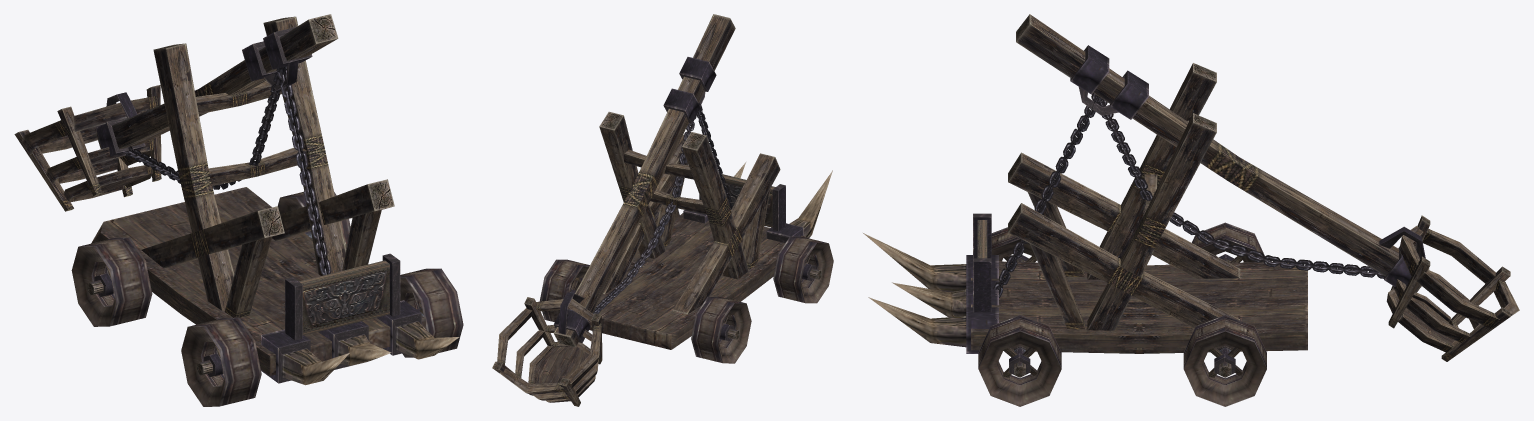
The model's file is toushiche_zd_60.FBX.
3 renders of one model, left to right at view 1: azimuth 30°, elevation 25°; view 2: azimuth 150°, elevation 25°; view 3: azimuth 270°, elevation 25°, orthographic. The views are drawn at different scales.
Visible parts, largest first — view 1: toushiche_zd_60; view 2: toushiche_zd_60; view 3: toushiche_zd_60.
Boxes of the visible parts, x1=… form: toushiche_zd_60: x1=14, y1=14, x2=463, y2=406; toushiche_zd_60: x1=492, y1=14, x2=833, y2=406; toushiche_zd_60: x1=863, y1=14, x2=1519, y2=406.
Size of what is drawn, in the model's own units: 805 by 1127 by 2007.
